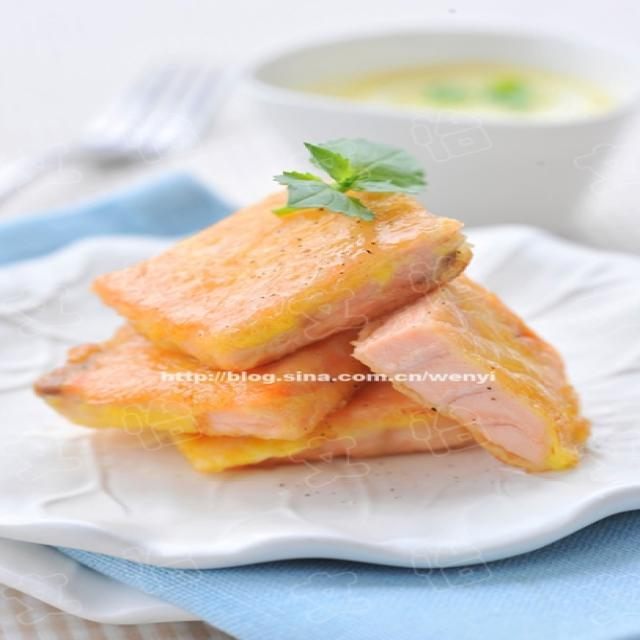熟制海鲜: (30, 119, 619, 544)
